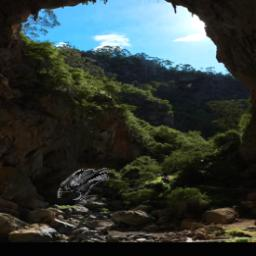Crow: (57, 169, 109, 201)
